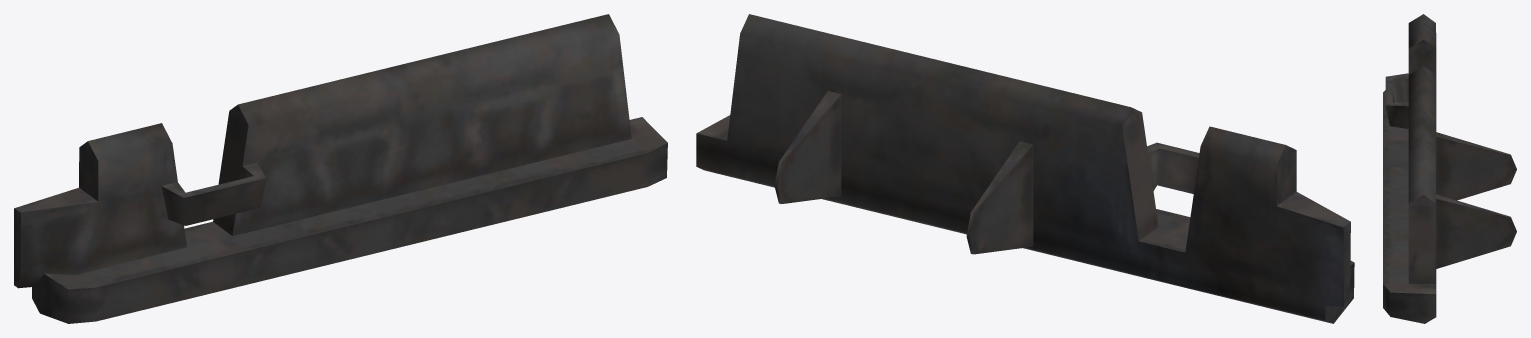
3 renders of one model, left to right at view 1: azimuth 30°, elevation 25°; view 2: azimuth 150°, elevation 25°; view 3: azimuth 270°, elevation 25°, orthographic. The views are drawn at different scales.
Parts seen in each view (by area): view 1: set_0_group_0; view 2: set_0_group_0; view 3: set_0_group_0.
Part boxes in pixels (box(x1,y1,x2,y2)): set_0_group_0: box(14, 14, 667, 323); set_0_group_0: box(696, 14, 1354, 323); set_0_group_0: box(1383, 14, 1516, 323).
Bounding box in the file's own units: 0.725 × 0.1782 × 0.1883.
Materials: 1 (1 with a texture image).
